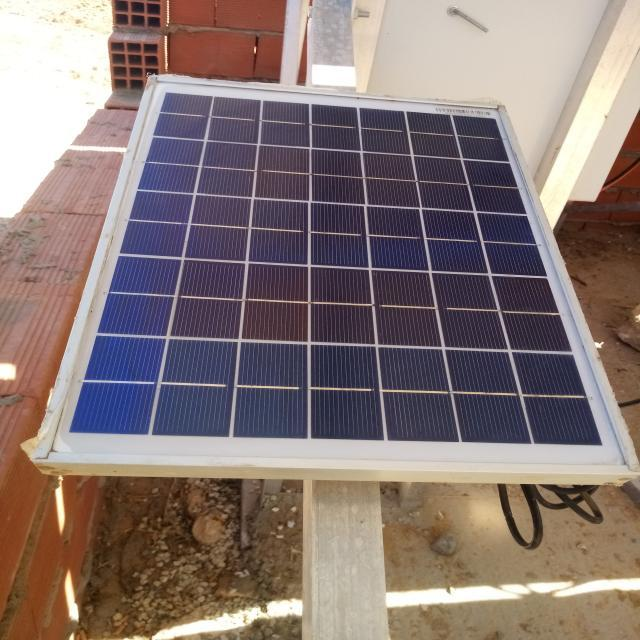no faulty: (43, 77, 637, 468)
